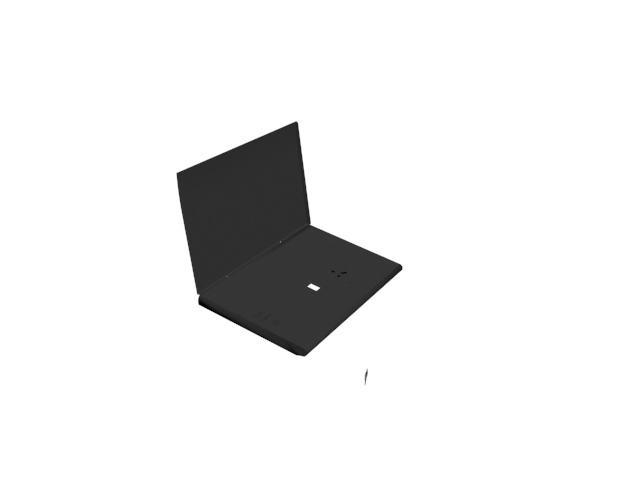laptop_computer: (177, 121, 408, 392)
